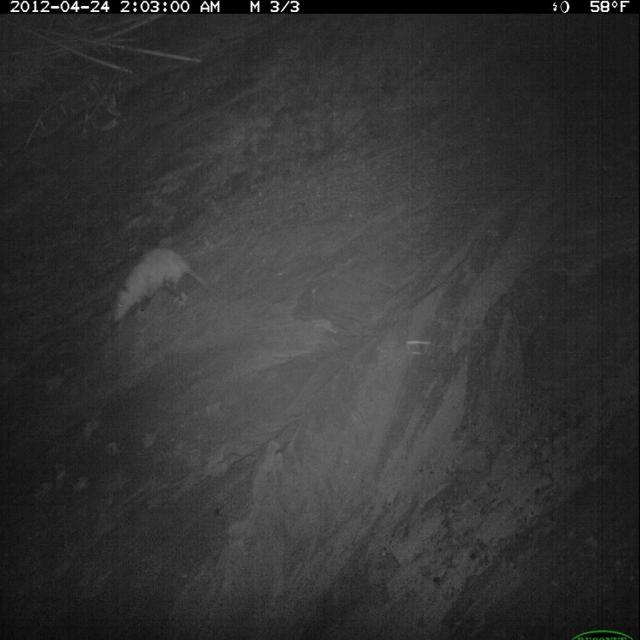opossum: (111, 244, 214, 332)
